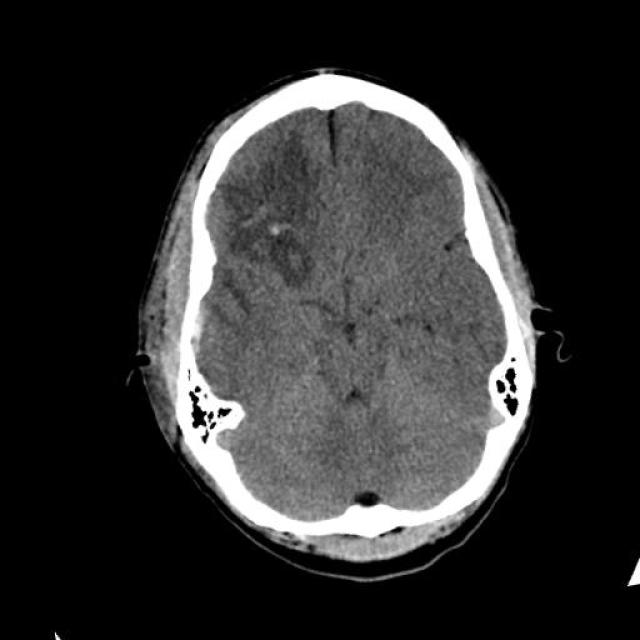Subdural: (166, 297, 230, 364)
